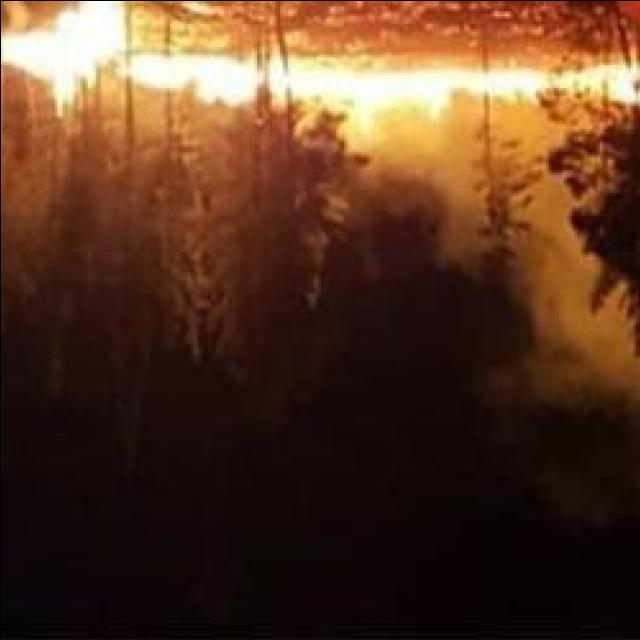fire: (0, 0, 129, 110), (120, 51, 300, 106), (285, 70, 449, 124), (436, 60, 554, 108)
smoke: (349, 120, 515, 282), (494, 270, 632, 414)
